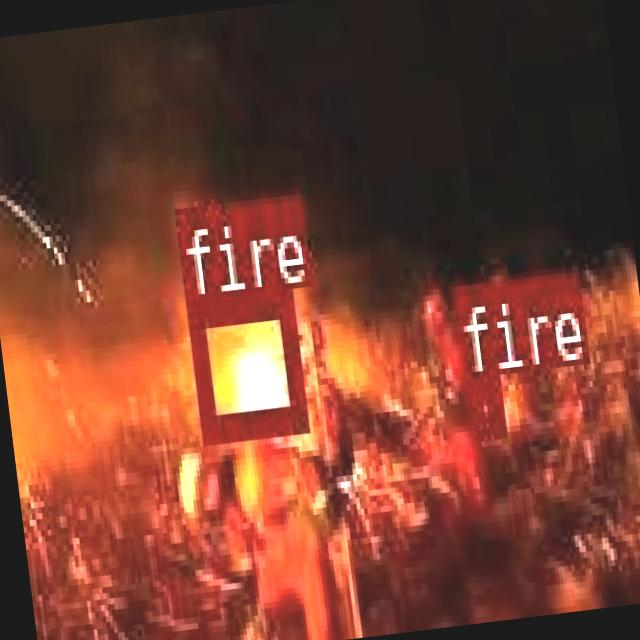fire: (185, 288, 305, 439), (460, 370, 500, 432)
